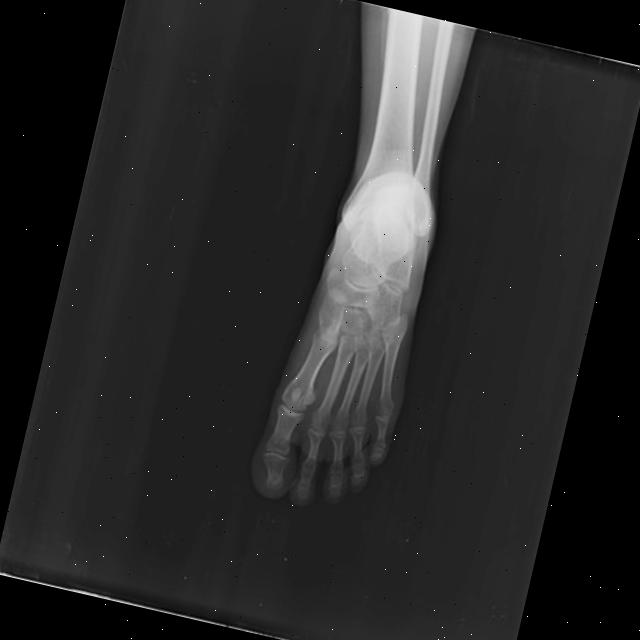Fracture: (345, 329, 372, 356)
